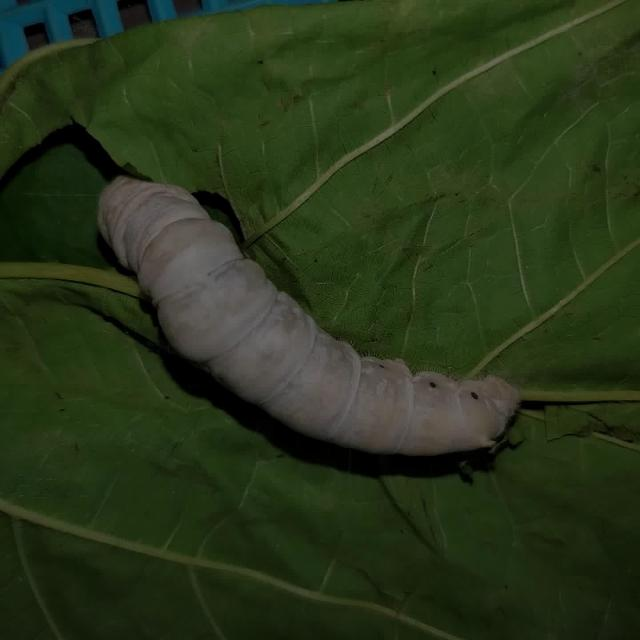Grasserie: (80, 159, 526, 469)
